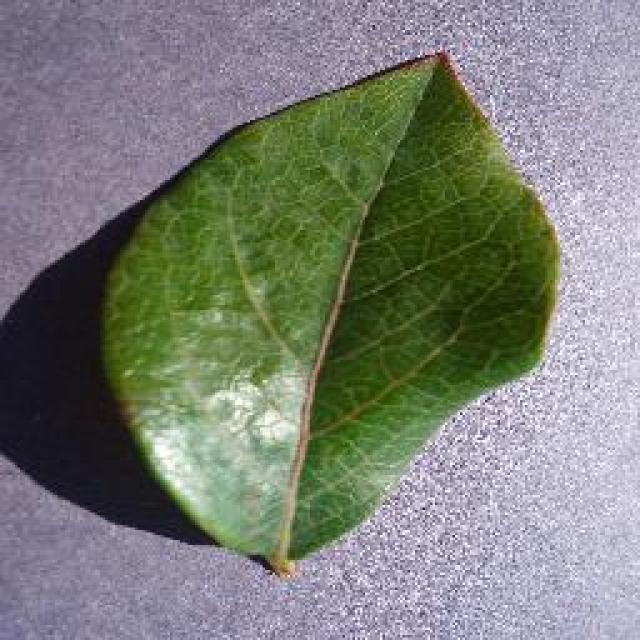Blu_healthy: (129, 127, 535, 514)
